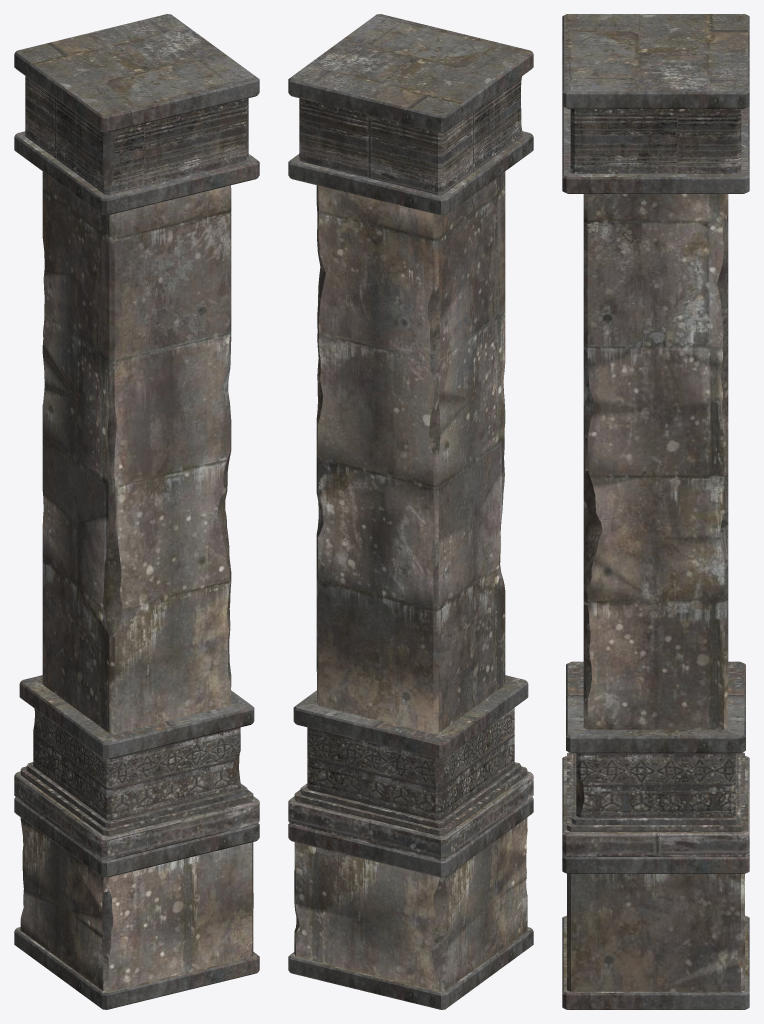
File: cargo_ruin_column_b.glb
3 views of the same model, side by side, from view 1: azimuth 30°, elevation 25°; view 2: azimuth 150°, elevation 25°; view 3: azimuth 270°, elevation 25° (orthographic). The views are drawn at different scales.
Parts seen in each view (by area): view 1: KB3D_SOL_PropRuinColumn_B; view 2: KB3D_SOL_PropRuinColumn_B; view 3: KB3D_SOL_PropRuinColumn_B.
Boxes of the visible parts, x1,y1,x2,y2 form: KB3D_SOL_PropRuinColumn_B: [14, 14, 259, 1009]; KB3D_SOL_PropRuinColumn_B: [288, 14, 533, 1009]; KB3D_SOL_PropRuinColumn_B: [562, 14, 749, 1009].
Bounding box in the file's own units: 3 × 16.2 × 3.
Materials: 4 (4 with a texture image).
